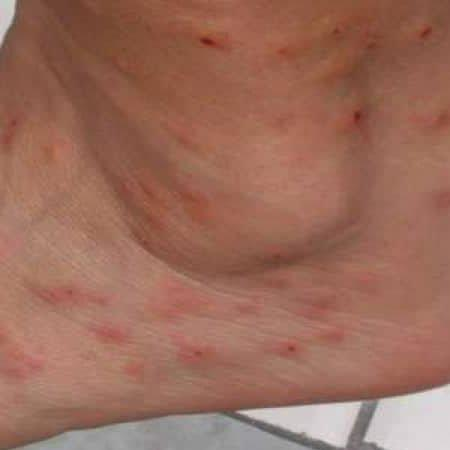Fleas: (147, 279, 260, 341), (0, 338, 52, 383), (33, 286, 110, 308), (191, 14, 228, 55), (342, 97, 369, 134), (175, 345, 214, 367), (429, 106, 449, 146), (402, 18, 432, 44), (280, 340, 311, 360)
